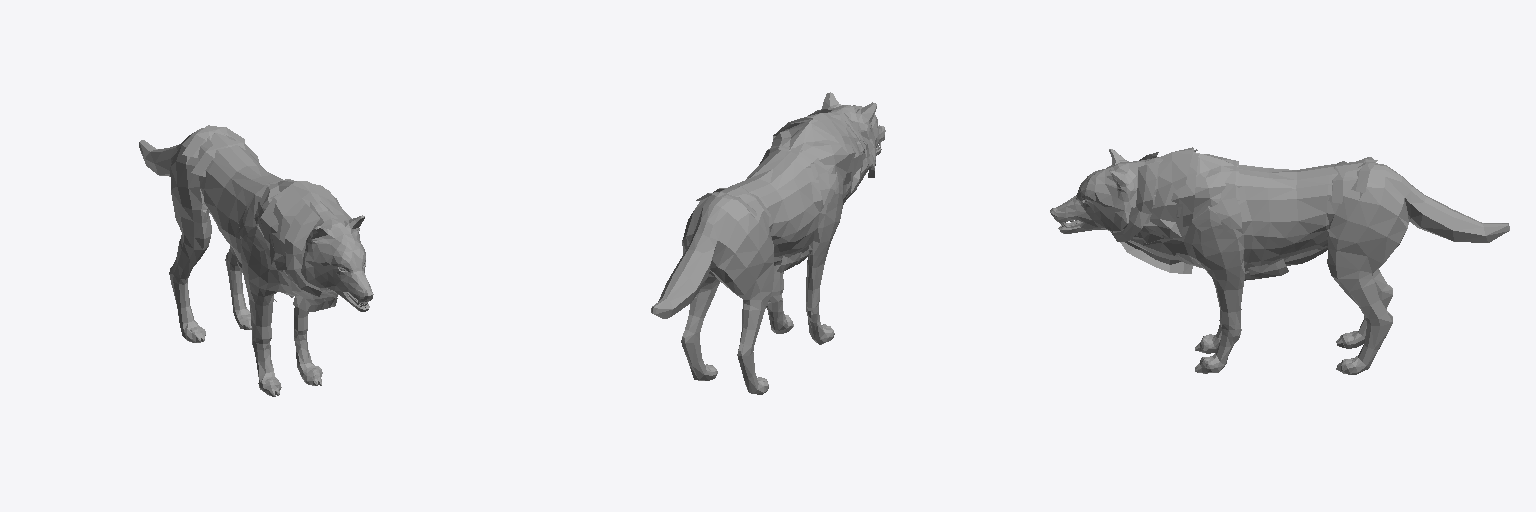
Rendered from Wolf.obj.
The picture shows the model from 3 angles: view 1: azimuth 30°, elevation 25°; view 2: azimuth 150°, elevation 25°; view 3: azimuth 270°, elevation 25°; orthographic projection.
Size of the model in its own units: 0.8819 by 2.35 by 4.59.